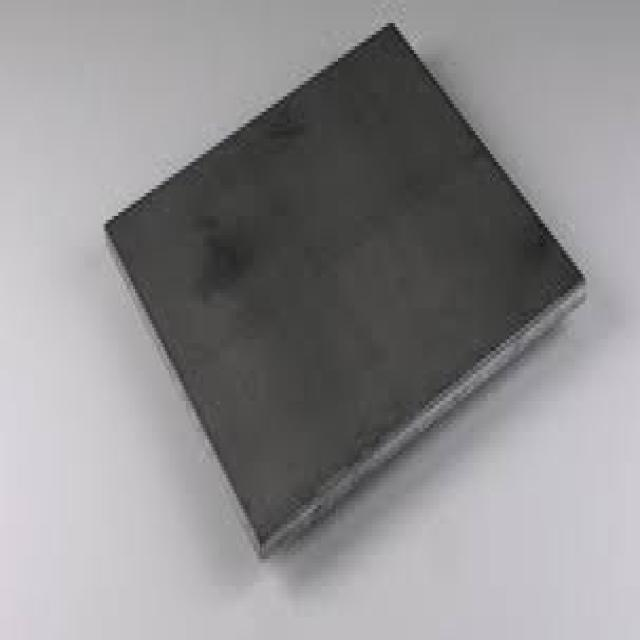Dry: (103, 23, 587, 563)
